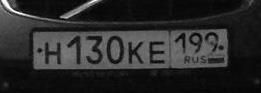license-plateSW: (33, 27, 230, 71)
